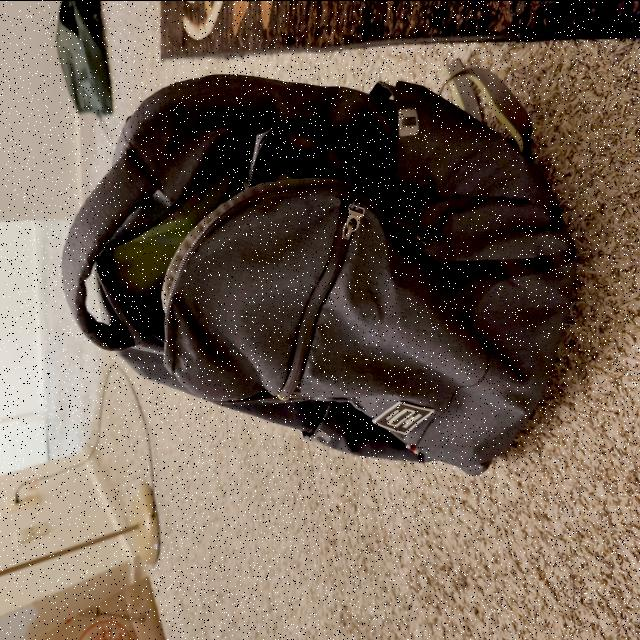bag: (79, 94, 572, 478)
